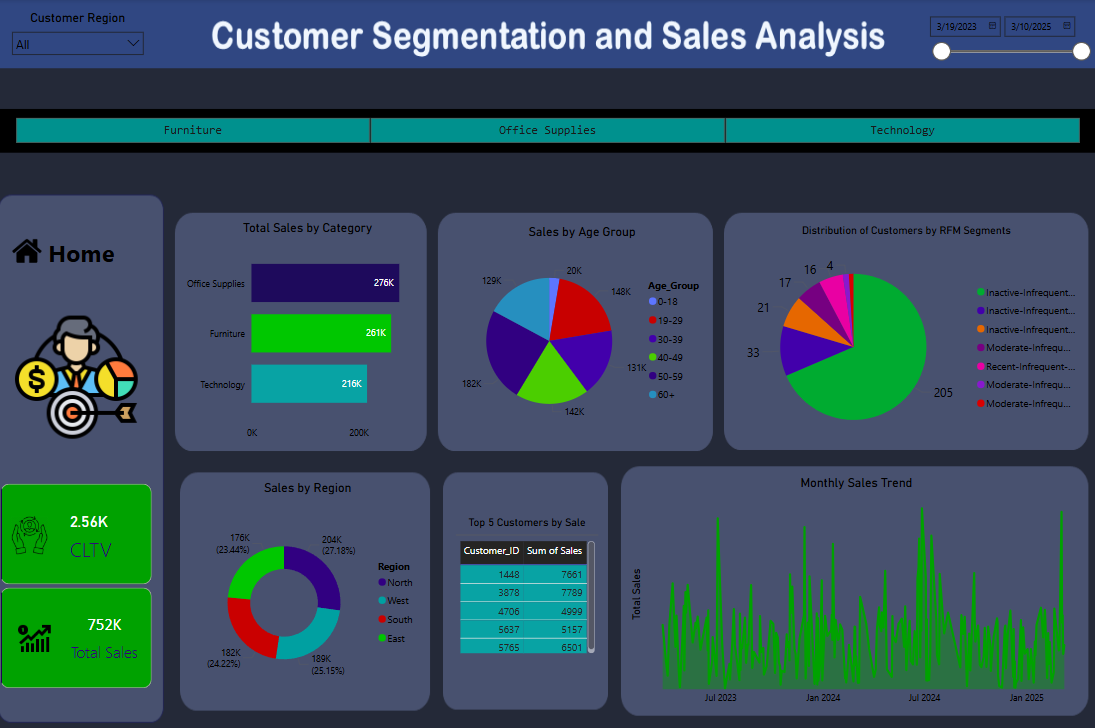

This screenshot's page, from the dashboard's own definition file:
{"tool":"powerbi","page":{"name":"Home","canvas":[1500,1000],"ordinal":0},"visuals":[{"type":"barChart","title":"Total Sales by Category","fields":{"Y":["Sum(customersalesdb customersales.Sales)"],"Category":["customersalesdb customersales.Category"]},"box":[247.1,301.6,352.8,308.5],"z":0},{"type":"lineChart","title":"Monthly Sales Trend","fields":{"Category":["customersalesdb customersales.Order_Date"],"Y":["Sum(customersalesdb customersales.Sales)"]},"box":[858.9,649.3,625.4,322.1],"z":1000},{"type":"tableEx","title":"Top 5 Customers by Sale","fields":{"Values":["CountNonNull(customersalesdb customersales.Customer_ID)","Sum(customersalesdb customersales.Sales)"]},"box":[625.4,705.5,194.3,190.9],"z":2000},{"type":"pieChart","title":"Sales by Age Group","fields":{"Y":["Sum(customersales.Sales)"],"Category":["customersales.Age_Group"]},"box":[613.5,306.8,368.1,299.9],"z":3000},{"type":"cardVisual","fields":{"Data":["customersales.CLTV","Sum(customersales.Sales)"]},"box":[0,656.1,216.4,289.7],"z":4000},{"type":"slicer","fields":{"Values":["customersales.Order_Date"]},"box":[1259.4,13.6,240.3,81.8],"z":5000},{"type":"slicer","fields":{"Values":["customersales.Category"]},"box":[0,155.1,1499.7,47.7],"z":6000},{"type":"donutChart","title":" Sales by Region","fields":{"Y":["Sum(customersales.Sales)"],"Category":["customersales.Customer_Region"]},"box":[259,656.1,328.9,315.3],"z":7000},{"type":"image","box":[3.4,424.3,209.6,182.3],"z":8000},{"type":"slicer","title":"Customer Region","fields":{"Values":["customersales.Customer_Region"]},"box":[10.2,15.3,199.4,66.5],"z":9000},{"type":"pieChart","title":"Distribution of Customers by RFM Segments","fields":{"Y":["CountNonNull(customersales.Customer_ID)"],"Category":["customersales.RFM_Segment"]},"box":[995.2,306.8,489.1,318.7],"z":10000},{"type":"image","box":[0,318.7,81.8,49.4],"z":10001},{"type":"textbox","box":[64.8,318.7,124.4,64.8],"z":10002}]}

Visuals, with their boxes in screenshot pixels (x1, y1, x2, y2), scaled from the page's 1500x1000 canvas onto the 1095x728 screenshot:
"Total Sales by Category" barChart: x1=180 y1=220 x2=438 y2=444
"Monthly Sales Trend" lineChart: x1=627 y1=473 x2=1084 y2=707
"Top 5 Customers by Sale" tableEx: x1=457 y1=514 x2=598 y2=653
"Sales by Age Group" pieChart: x1=448 y1=223 x2=717 y2=442
cardVisual - customersales.CLTV x Sum(customersales.Sales): x1=0 y1=478 x2=158 y2=689
slicer - customersales.Order_Date: x1=919 y1=10 x2=1094 y2=69
slicer - customersales.Category: x1=0 y1=113 x2=1094 y2=148
" Sales by Region" donutChart: x1=189 y1=478 x2=429 y2=707
image: x1=2 y1=309 x2=155 y2=442
"Customer Region" slicer: x1=7 y1=11 x2=153 y2=60
"Distribution of Customers by RFM Segments" pieChart: x1=726 y1=223 x2=1084 y2=455
image: x1=0 y1=232 x2=60 y2=268
textbox: x1=47 y1=232 x2=138 y2=279
